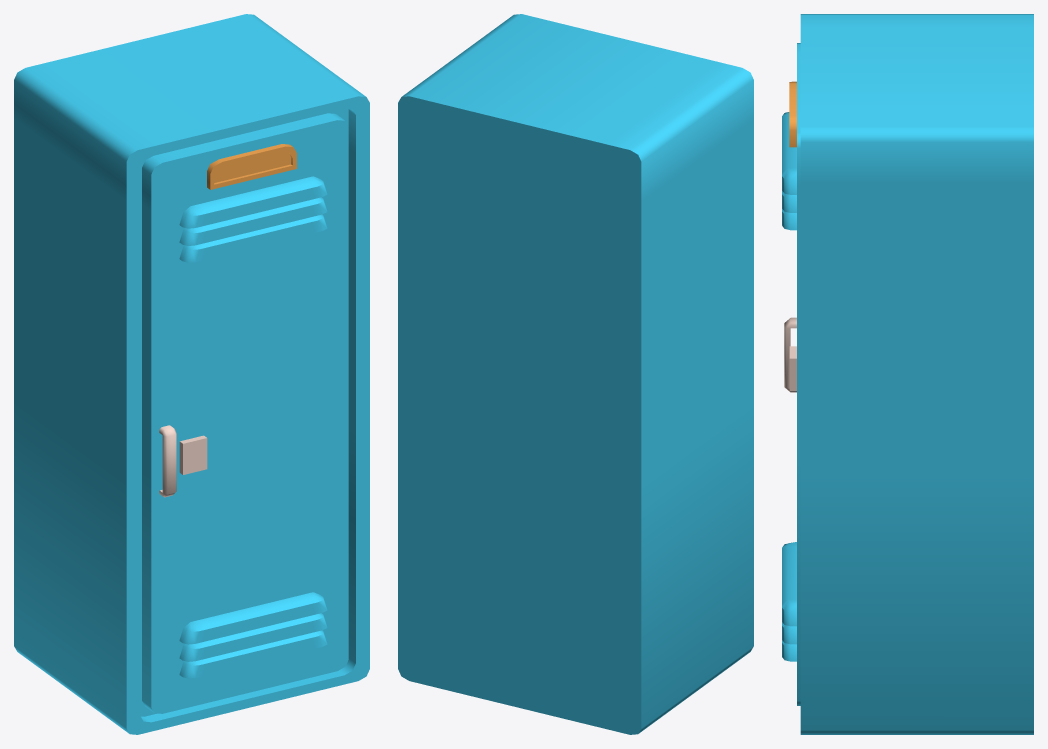
The model's file is Shelf.fbx.
The picture shows the model from 3 angles, left to right: view 1: azimuth 30°, elevation 25°; view 2: azimuth 150°, elevation 25°; view 3: azimuth 270°, elevation 25°; orthographic projection. The views are drawn at different scales.
Parts seen in each view (by area): view 1: Shelf; view 2: Shelf; view 3: Shelf.
Part boxes in pixels (box(x1,y1,x2,y2)): Shelf: box(14, 14, 369, 734); Shelf: box(398, 14, 753, 734); Shelf: box(782, 14, 1033, 734).
Bounding box in the file's own units: 100 × 230 × 86.4.
